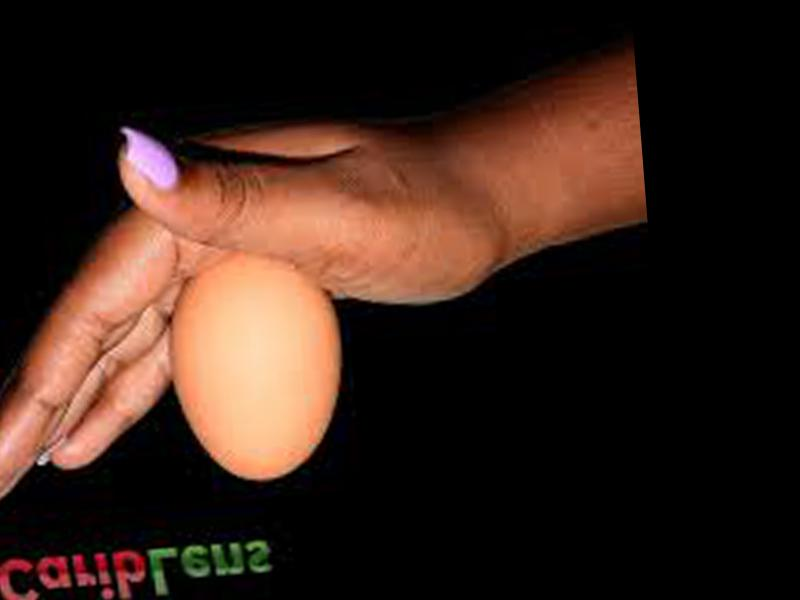Eggs: (161, 249, 351, 487)
